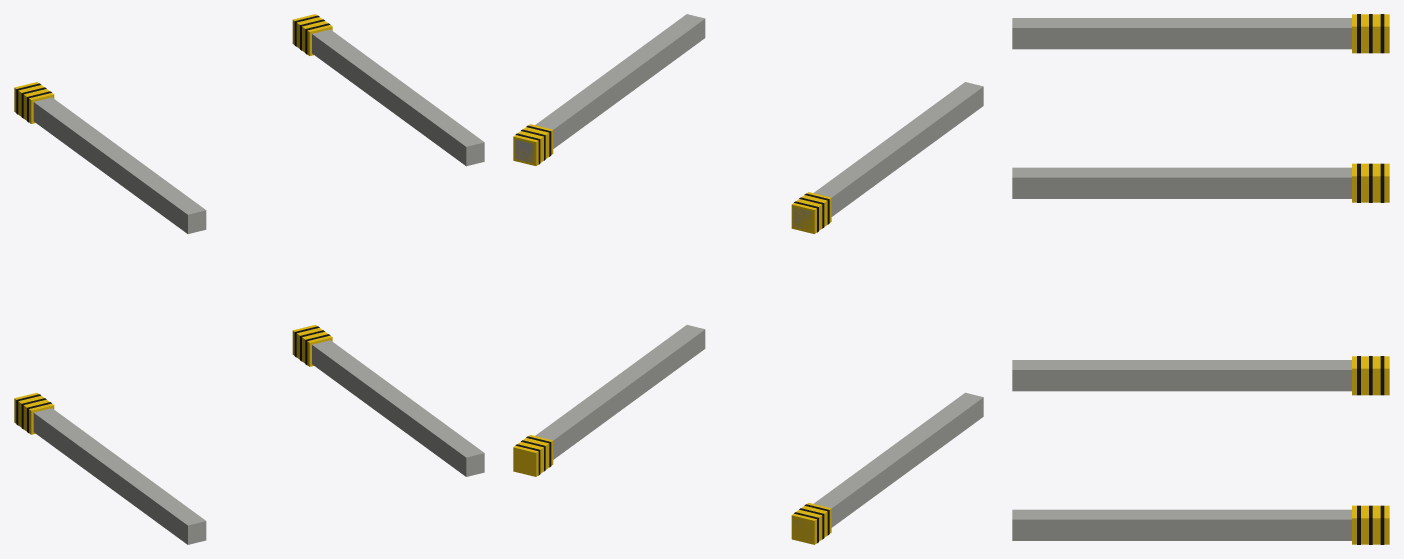
File: columns.obj
The picture shows the model from 3 angles, left to right: view 1: azimuth 30°, elevation 25°; view 2: azimuth 150°, elevation 25°; view 3: azimuth 270°, elevation 25°; orthographic projection. The views are drawn at different scales.
Parts seen in each view (by area): view 1: concrete, yellow, black; view 2: concrete, yellow, black; view 3: concrete, yellow, black.
Boxes of the visible parts, x1,y1,x2,y2 form: concrete: (33, 29, 484, 544); yellow: (14, 14, 332, 434); black: (16, 15, 330, 433); concrete: (515, 14, 983, 541); yellow: (513, 124, 831, 544); black: (515, 125, 829, 543); concrete: (1012, 18, 1351, 540); yellow: (1352, 14, 1389, 544); black: (1357, 14, 1384, 544).
Size of the model in its own units: 8.13 by 8.63 by 8.
